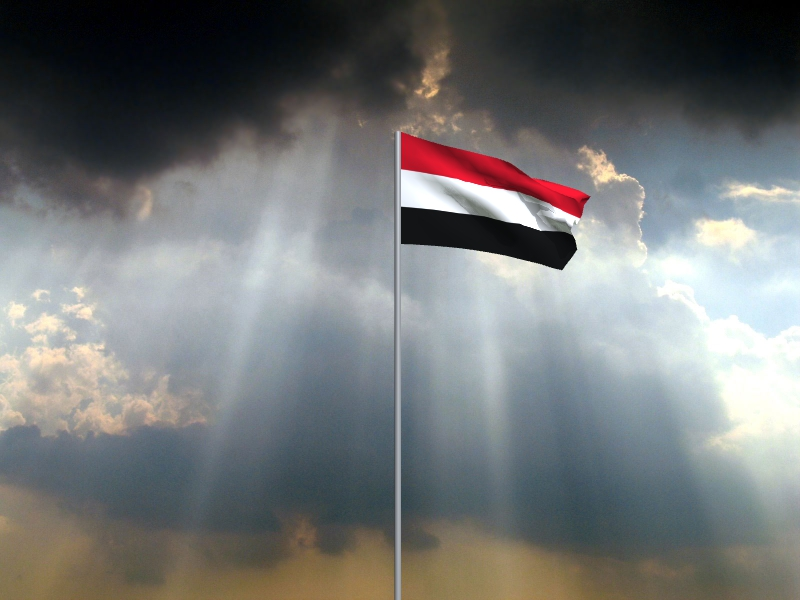ye: (402, 134, 592, 272)
